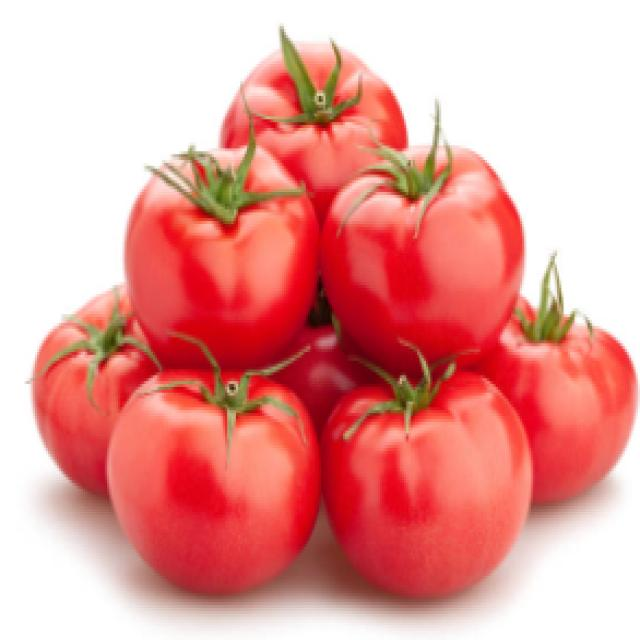Tomato: (101, 351, 329, 601), (304, 367, 534, 602), (337, 132, 548, 365), (120, 142, 313, 365)
